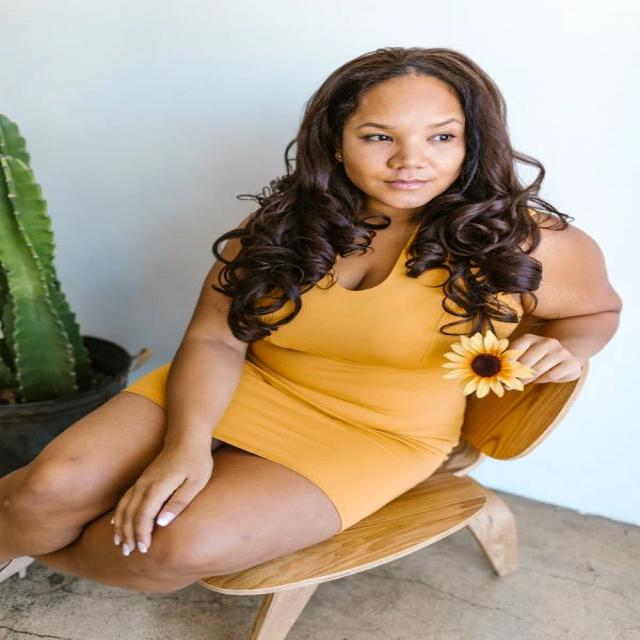Real human 2: (35, 26, 635, 589)
